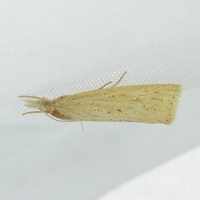insect: (19, 71, 181, 124)
